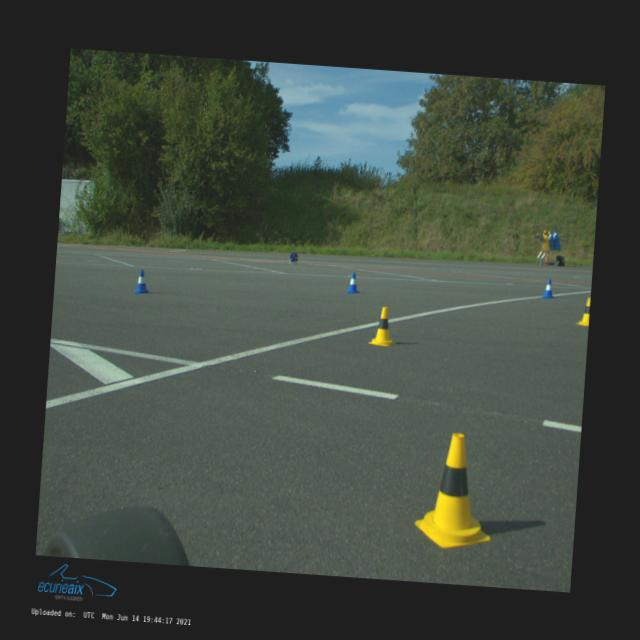blue_cone: (133, 268, 150, 292), (346, 272, 359, 292), (542, 278, 554, 298), (552, 230, 558, 238), (548, 232, 552, 240)
yellow_cone: (414, 430, 496, 550), (368, 306, 398, 347), (577, 296, 590, 326), (542, 229, 547, 237)
